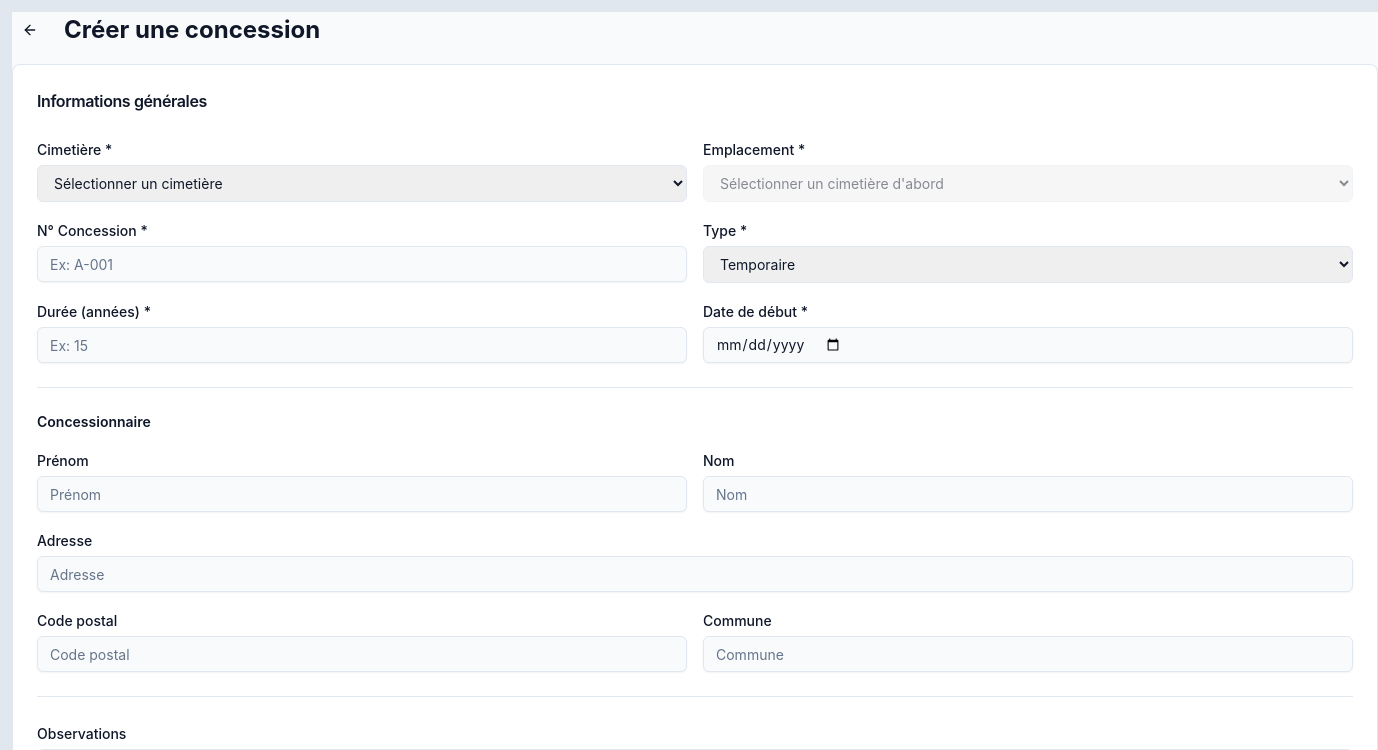
Test: ConcessionCreatePage › loads plots when cemetery is selected
The image size is (1378, 750).
Select "Cimetière du Père-Lachaise" in the dropdown labelled "Cimetière *" at (362, 184), box [37,165,687,202]
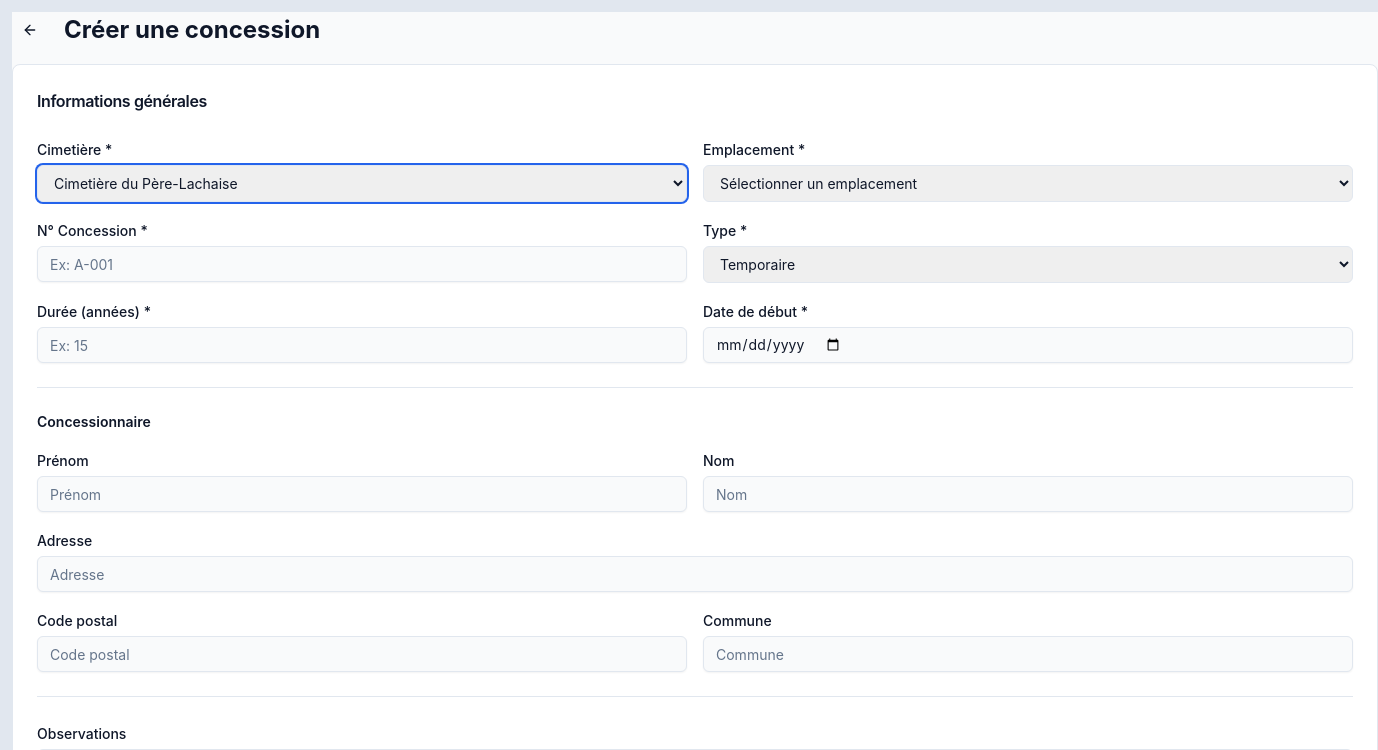
Now the dropdown labelled "Emplacement *" is enabled, box [703,165,1353,202]
